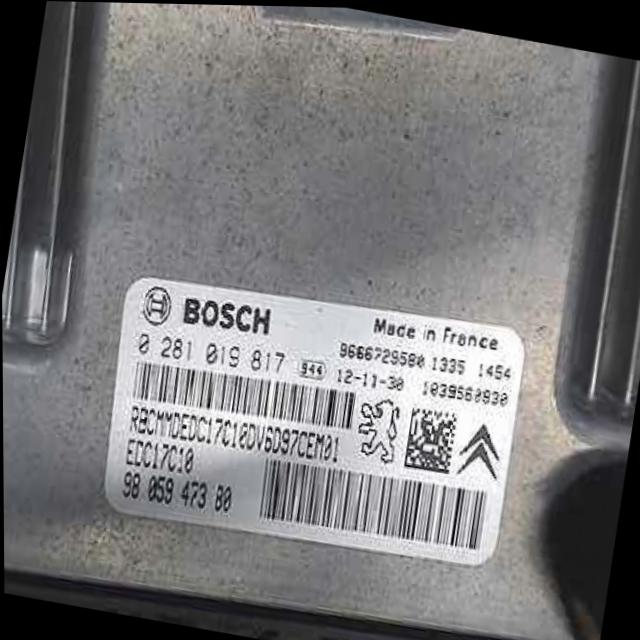datamatrix: (402, 404, 459, 474)
